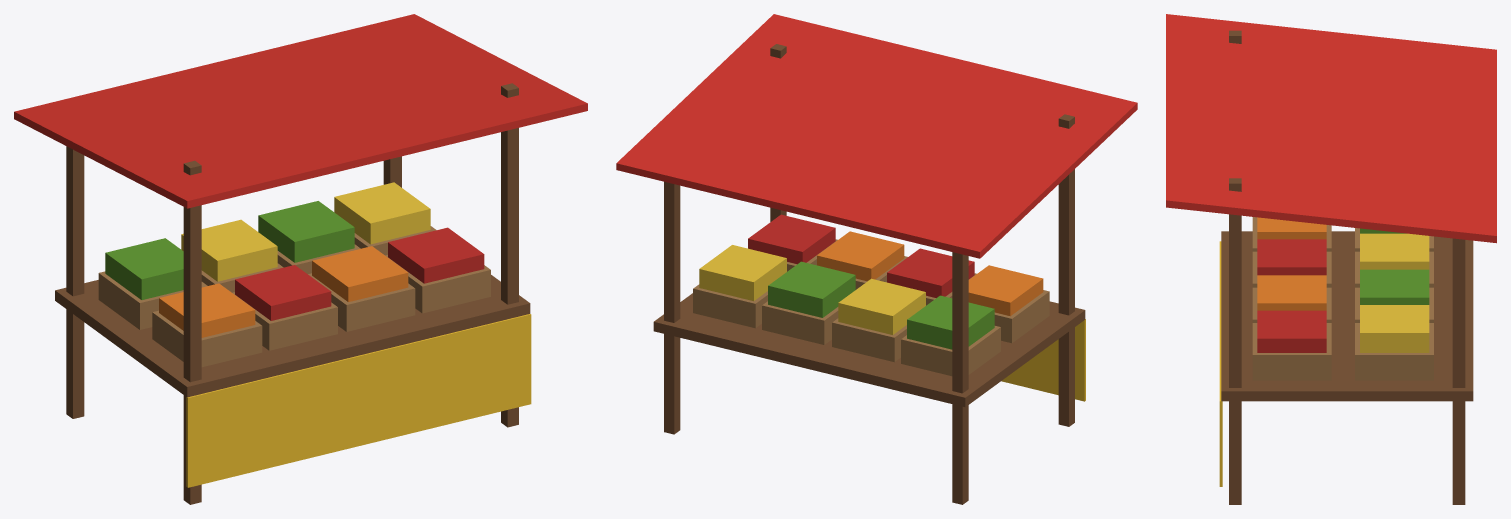
File: prop_market_stall_a.glb
3 renders of one model, left to right at view 1: azimuth 30°, elevation 25°; view 2: azimuth 150°, elevation 25°; view 3: azimuth 270°, elevation 25°, orthographic. The views are drawn at different scales.
Visible parts, largest first — view 1: prop_market_stall_a; view 2: prop_market_stall_a; view 3: prop_market_stall_a.
Boxes of the visible parts, x1,y1,x2,y2 form: prop_market_stall_a: (14,14,587,504); prop_market_stall_a: (616,14,1137,504); prop_market_stall_a: (1166,14,1496,504).
Size of what is drawn, in the model's own units: 2.8 by 2.25 by 2.1.
